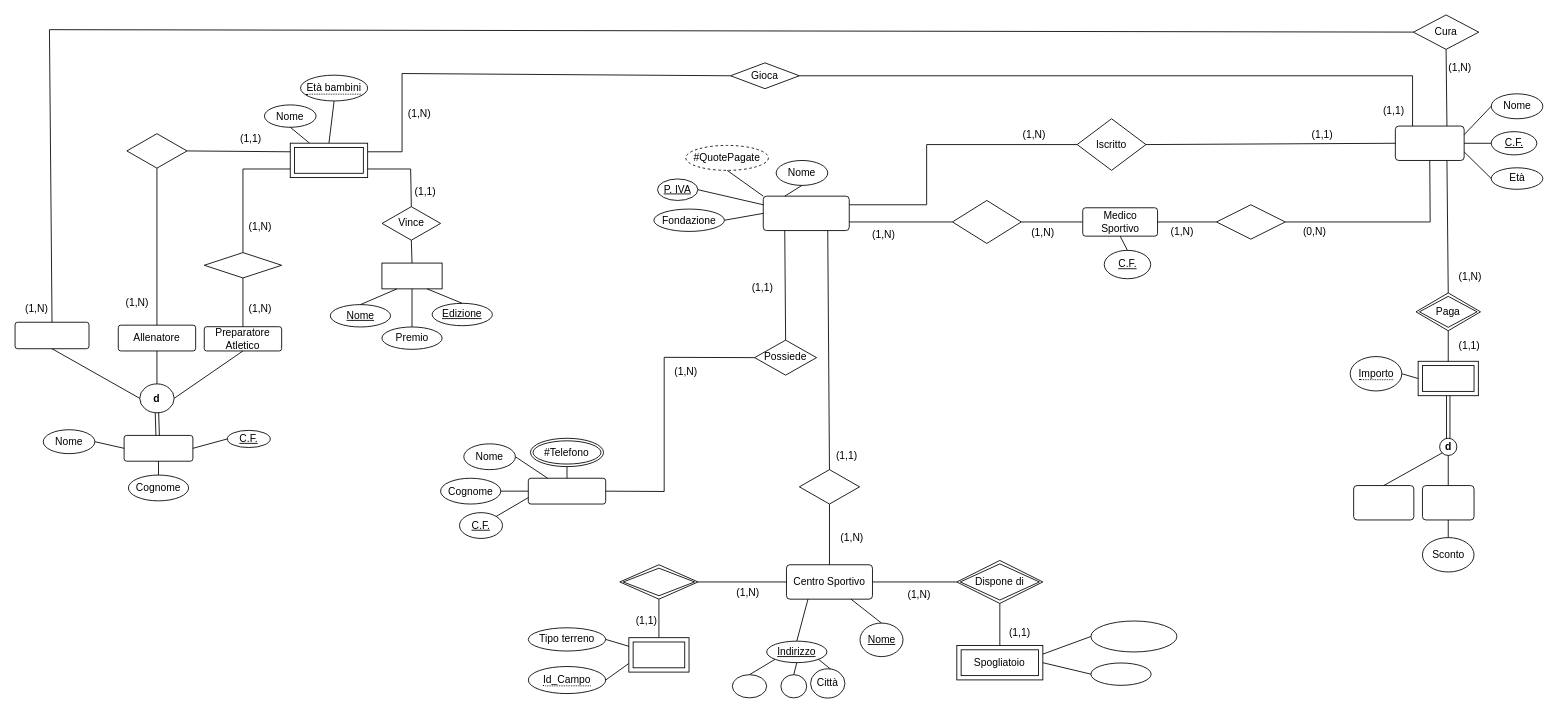
The diagram is 1558 pixels wide and 714 high, and some of its shapes have lost their labels. The box of each missing label's shape, as (x1, y1, x2, y2) in pixels:
#docce: (1090, 662, 1151, 685)
Allena: (126, 133, 187, 168)
Annuale: (1422, 485, 1474, 520)
Bambino: (1394, 125, 1464, 160)
Campo: (628, 637, 689, 672)
Civico: (731, 674, 767, 698)
Collabora: (952, 200, 1021, 243)
Composto: (619, 564, 698, 599)
Dipendenti: (123, 435, 193, 461)
Fisioterapista: (14, 321, 89, 349)
Id Spogliatoio: (1090, 620, 1177, 652)
Mensile: (1353, 485, 1414, 520)
Prepara: (203, 252, 282, 278)
Presidente: (527, 477, 606, 504)
Retta: (1417, 360, 1478, 396)
Scuola Calcio: (762, 195, 849, 231)
Squadra: (289, 142, 368, 178)
Torneo: (381, 262, 442, 289)
Utilizza: (799, 469, 860, 504)
Via: (780, 674, 807, 698)
Visita: (1216, 204, 1285, 239)
